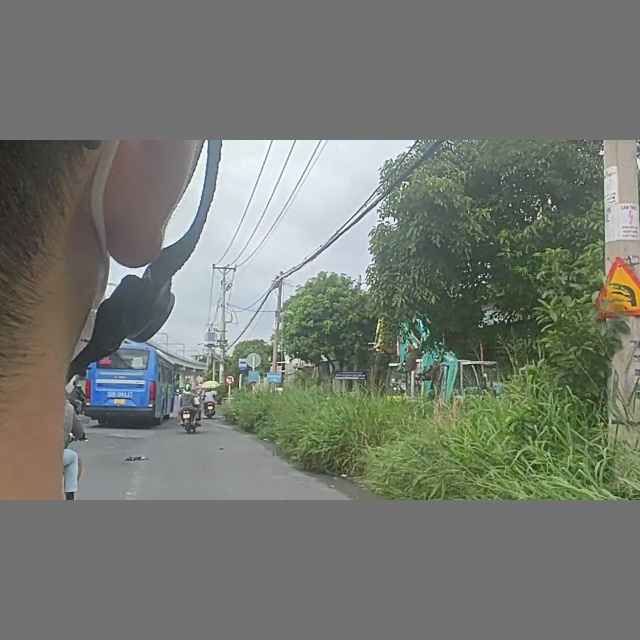I.434a: (237, 356, 249, 371)
P.123a: (225, 374, 236, 384)
W.201a: (587, 255, 640, 317)
